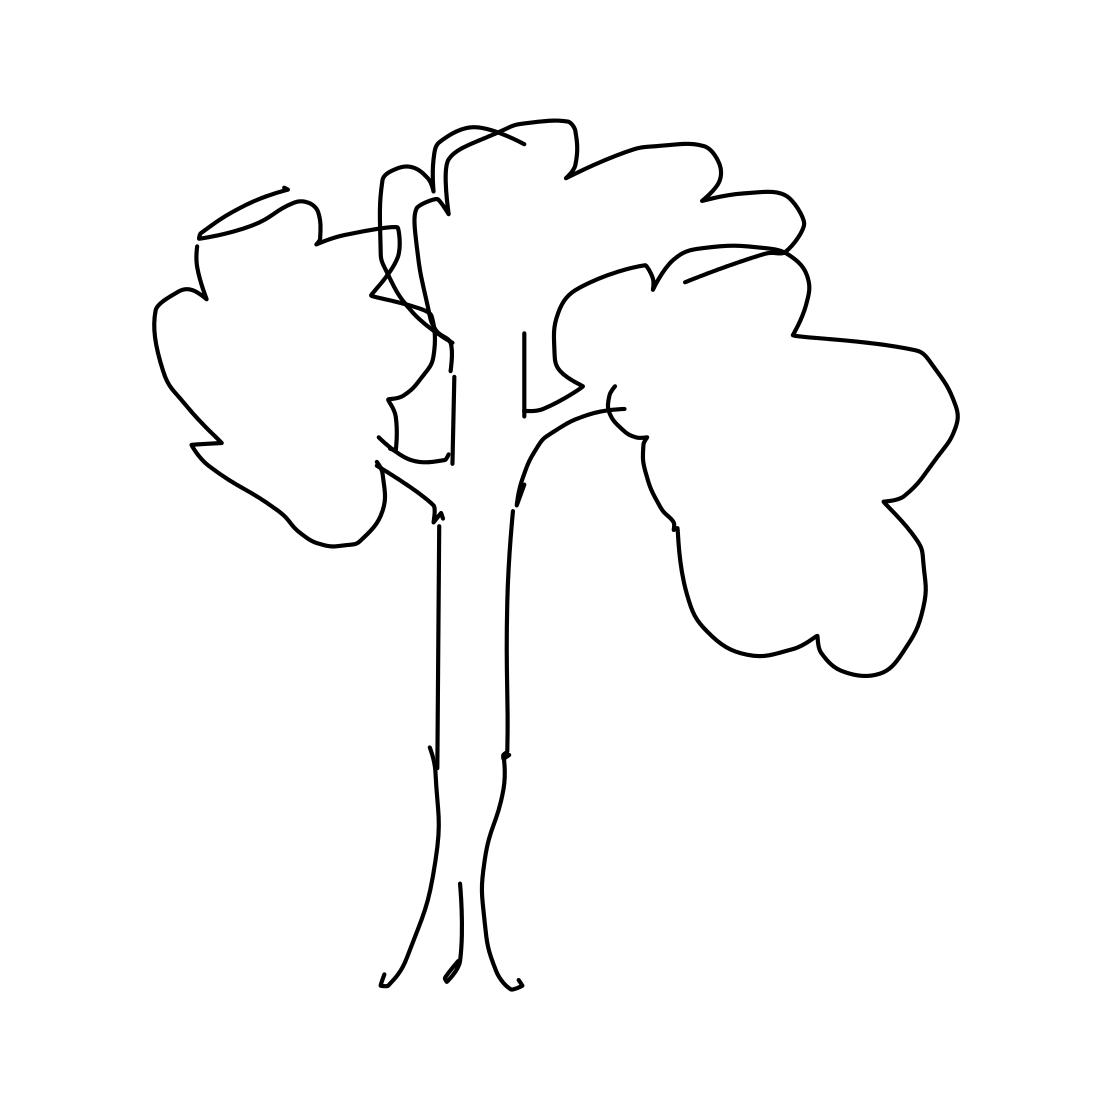Tree: (109, 82, 991, 1009)
